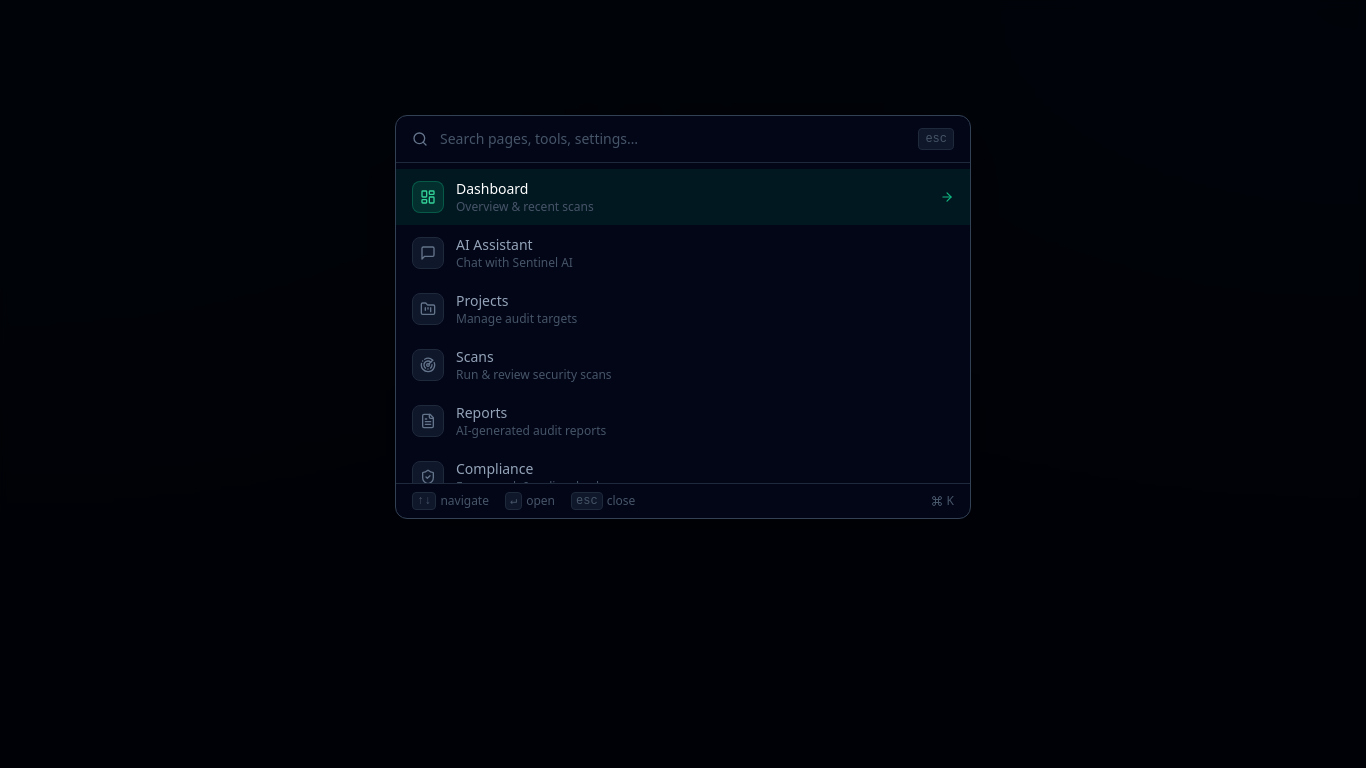
Test: CommandPalette — filtering › can filter by keyword (nmap → Active Recon)
The image size is (1366, 768).
In the field with placeholder "Search pages, tools, settings…": (673, 139) [440,129,906,149], type "nmap"
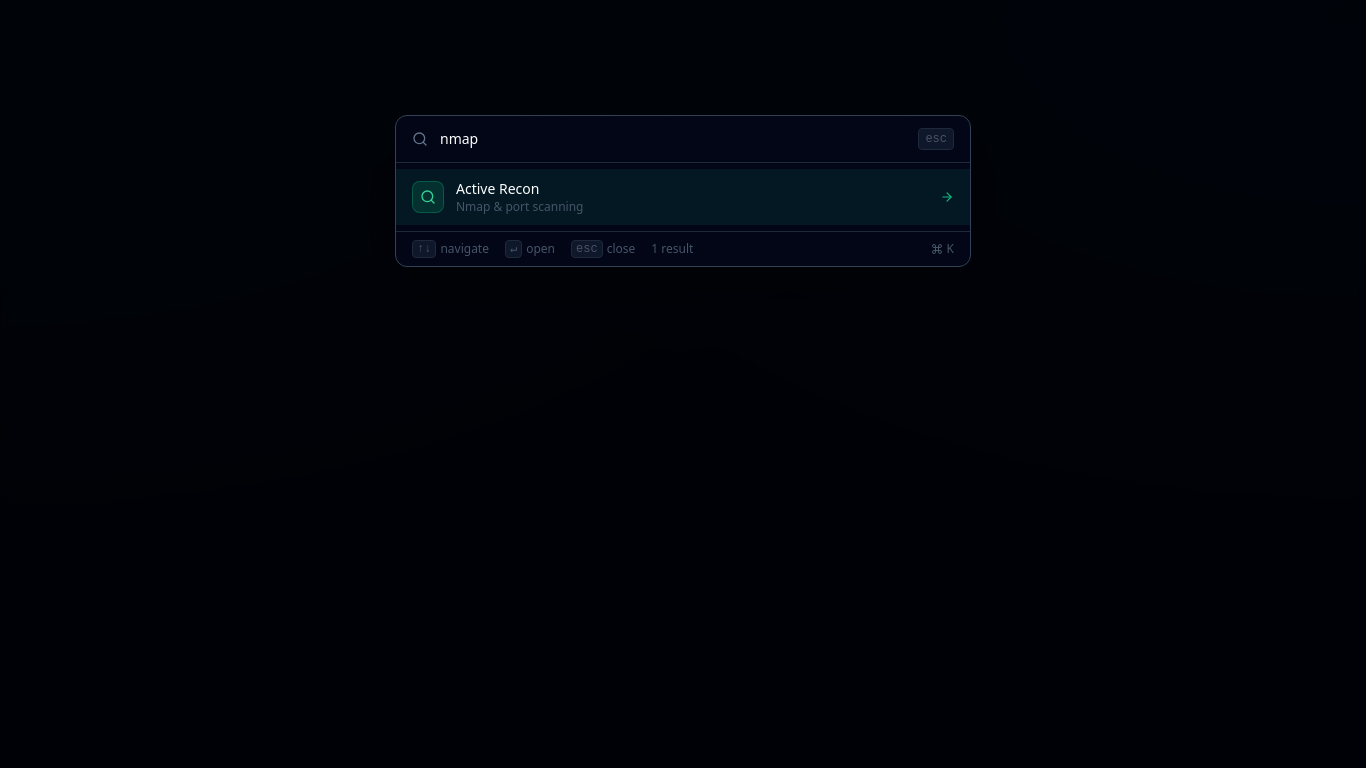
Expected: the text "Active Recon" is shown, [456,179,539,198]
